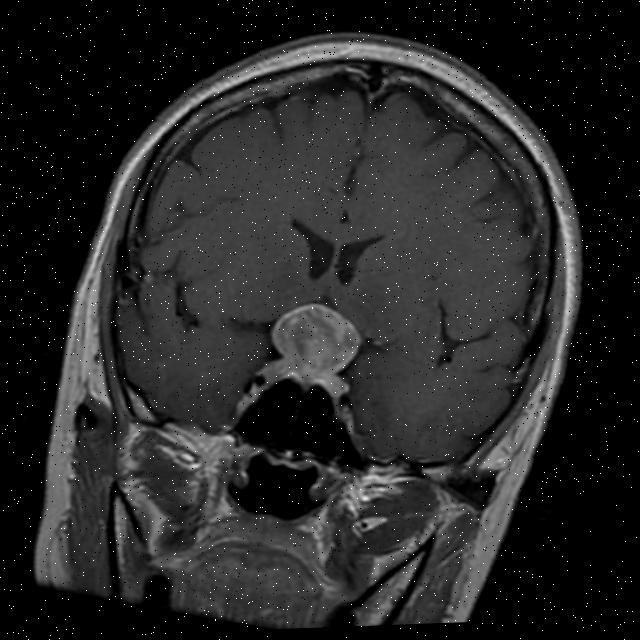Pituitary: (254, 290, 369, 404)
